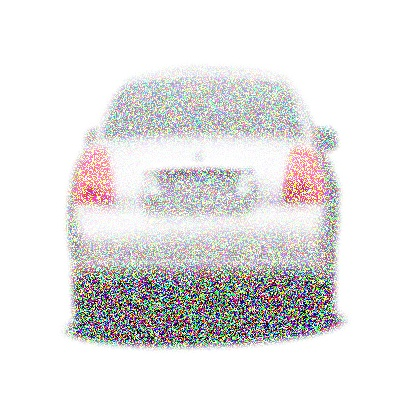Vehicle: (67, 62, 344, 327)
